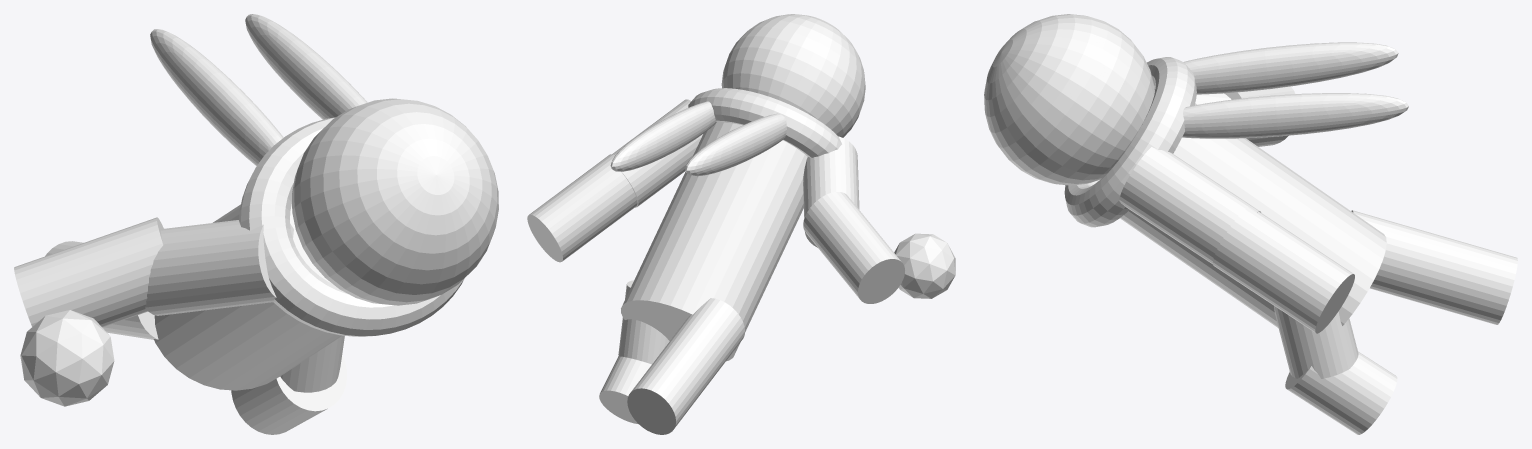
File: fullsphito.obj
The picture shows the model from 3 angles, left to right: view 1: azimuth 30°, elevation 25°; view 2: azimuth 150°, elevation 25°; view 3: azimuth 270°, elevation 25°; orthographic projection. The views are drawn at different scales.
Visible parts, largest first — view 1: 球_球.001, トーラス, 円柱, 円柱.002, 円柱.009_円柱.011, ICO球, 立方体.001_立方体.002, 立方体_立方体.001, 円柱.006, 円柱.003, 円柱.008_円柱.009; view 2: 円柱, 球_球.001, 円柱.002, 円柱.011_円柱.013, 円柱.004_円柱.008, トーラス, 立方体_立方体.001, 立方体.001_立方体.002, 円柱.008_円柱.009, ICO球, 円柱.009_円柱.011, 円柱.010_円柱.012 (+2 smaller); view 3: 球_球.001, 円柱, 円柱.011_円柱.013, 立方体_立方体.001, 円柱.010_円柱.012, 立方体.001_立方体.002, トーラス, 円柱.004_円柱.008, 円柱.006, 円柱.003, 円柱.008_円柱.009, 円柱.002.
Part boxes in pixels (box(x1,y1,x2,y2)): 球_球.001: box(292, 98, 498, 305); トーラス: box(239, 117, 464, 336); 円柱: box(154, 204, 341, 390); 円柱.002: box(14, 217, 163, 327); 円柱.009_円柱.011: box(145, 220, 293, 315); ICO球: box(20, 310, 114, 406); 立方体.001_立方体.002: box(150, 29, 283, 165); 立方体_立方体.001: box(245, 14, 367, 119); 円柱.006: box(231, 354, 346, 434); 円柱.003: box(280, 335, 344, 392); 円柱.008_円柱.009: box(102, 311, 158, 339); 円柱: box(621, 122, 807, 361); 球_球.001: box(721, 14, 865, 137); 円柱.002: box(803, 192, 904, 303); 円柱.011_円柱.013: box(527, 154, 637, 262); 円柱.004_円柱.008: box(627, 343, 710, 434); トーラス: box(688, 88, 841, 157); 立方体_立方体.001: box(610, 101, 716, 171); 立方体.001_立方体.002: box(685, 113, 786, 176); 円柱.008_円柱.009: box(666, 298, 744, 382); ICO球: box(894, 233, 955, 298); 円柱.009_円柱.011: box(803, 136, 859, 247); 円柱.010_円柱.012: box(612, 99, 702, 207); 球_球.001: box(984, 14, 1154, 185); 円柱: box(1120, 103, 1386, 327); 円柱.011_円柱.013: box(1212, 207, 1354, 333); 立方体_立方体.001: box(1182, 93, 1408, 138); 円柱.010_円柱.012: box(1119, 147, 1260, 263); 立方体.001_立方体.002: box(1154, 42, 1398, 94); トーラス: box(1064, 57, 1196, 227); 円柱.004_円柱.008: box(1414, 234, 1517, 324); 円柱.006: box(1285, 351, 1397, 434); 円柱.003: box(1274, 306, 1358, 378); 円柱.008_円柱.009: box(1351, 210, 1434, 300); 円柱.002: box(1224, 86, 1295, 146).
Bounding box in the file's own units: 5.85 × 4.96 × 6.22.
1 material, 1 textured.
